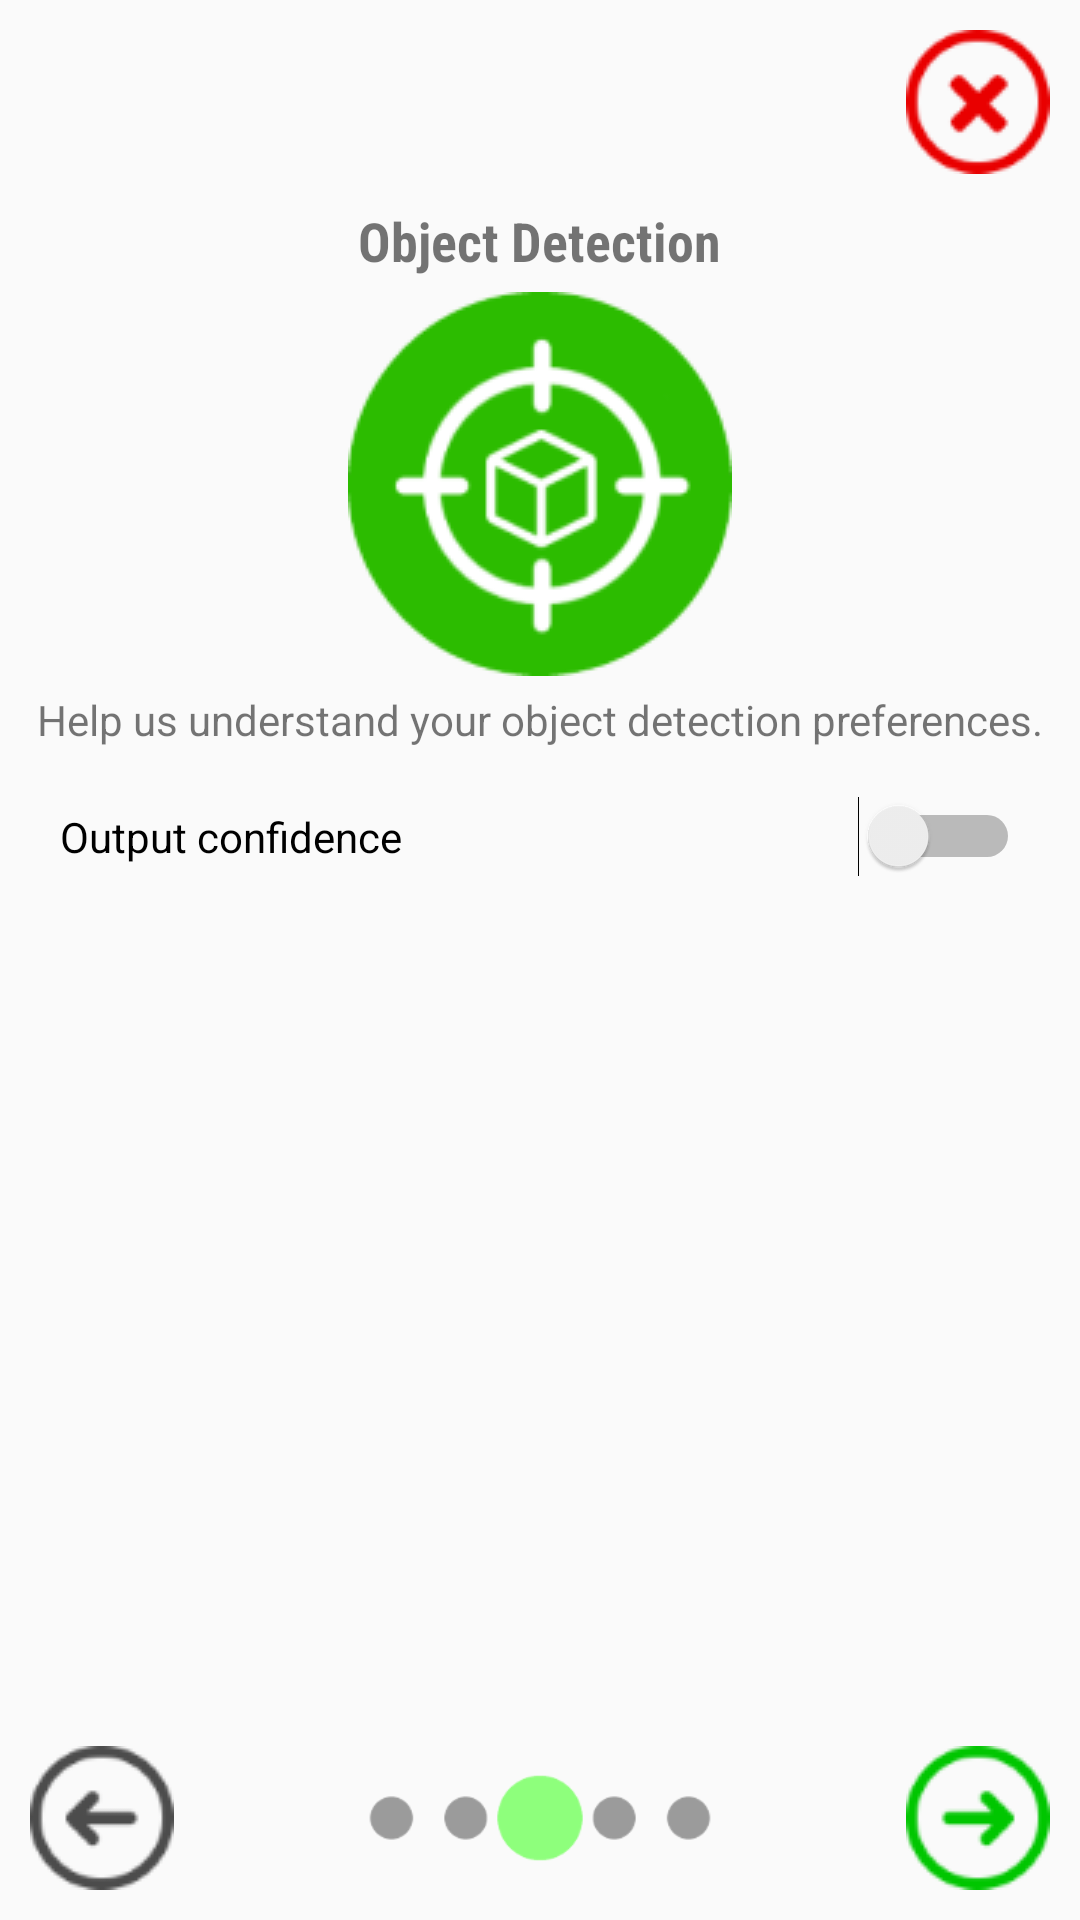

Icon click points for this 1080w x 1920h phone screenshot, format (x=x, y=y):
next: (x=978, y=1818)
prev: (x=102, y=1818)
skip: (x=978, y=102)
